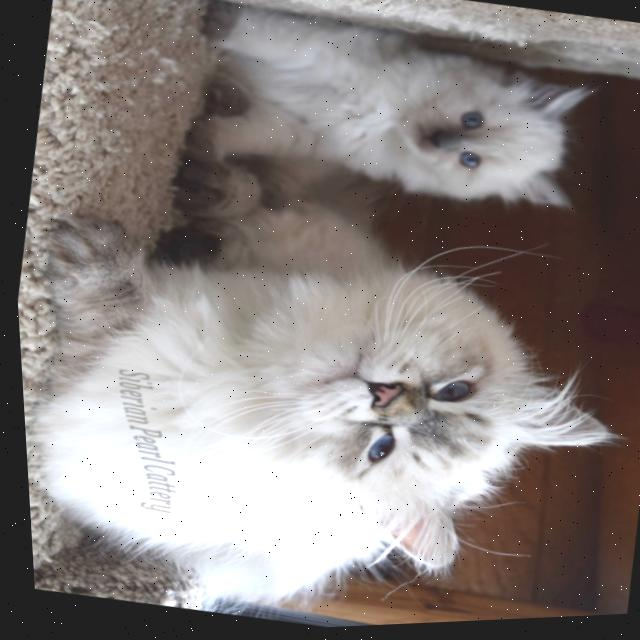Neva Masquerade: (7, 120, 640, 640), (170, 0, 614, 234)
